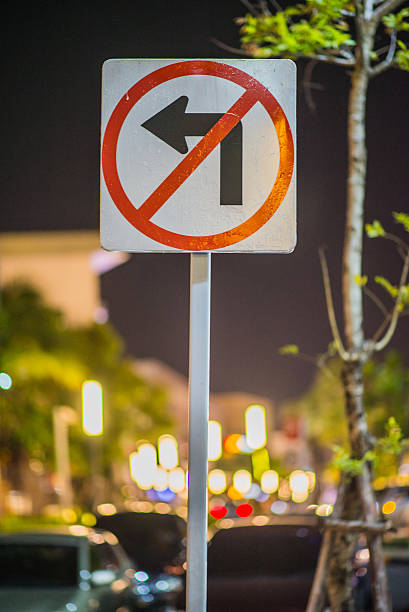sola_girilmez: (103, 60, 294, 248)
